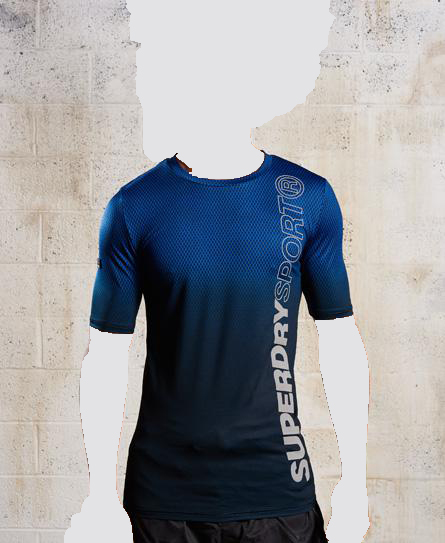teeshirt: (88, 150, 363, 518)
